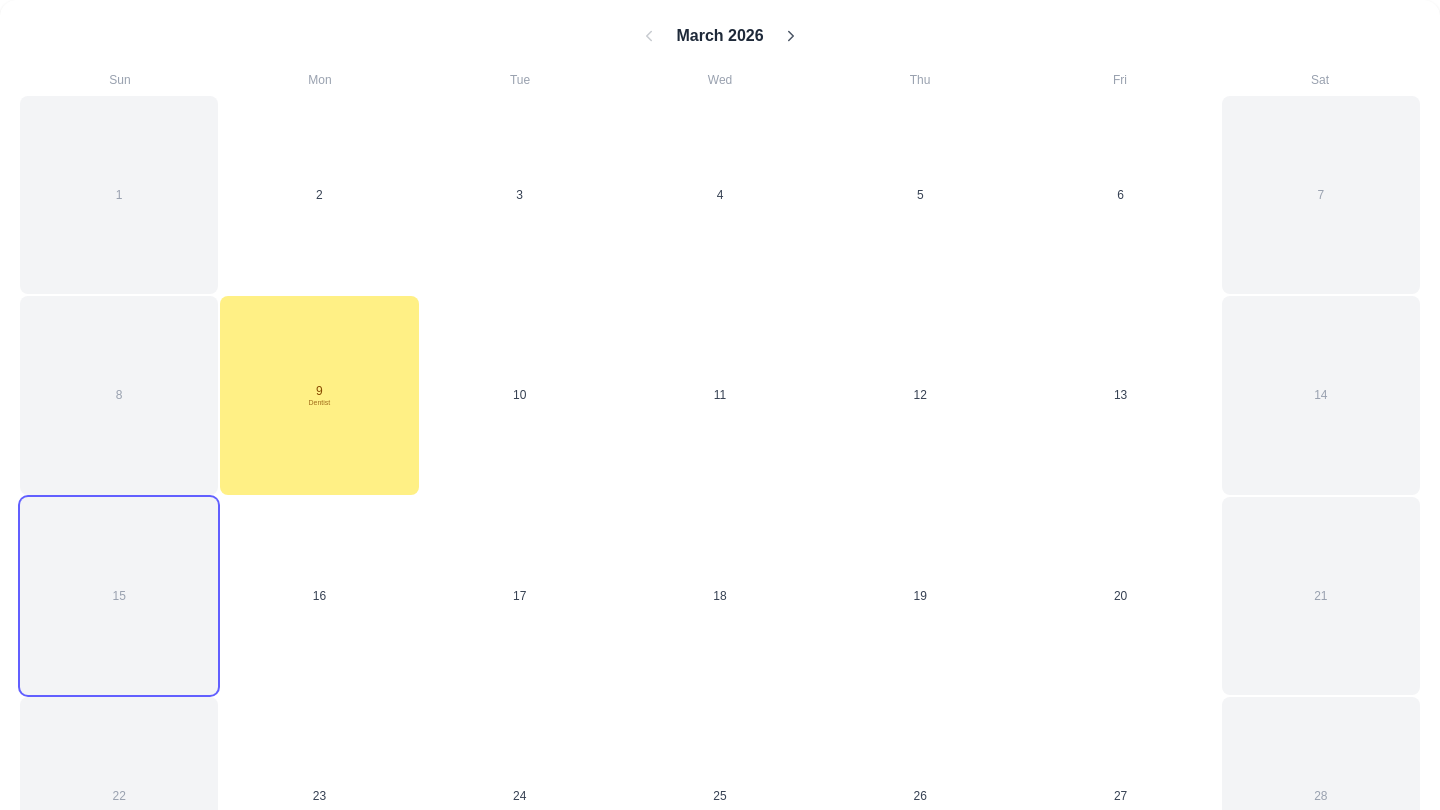
Scenario: CalendarView — leave popover on click › shows a popover with date range and working days
Click the text "9" at (319, 391), box [316,383,323,399]
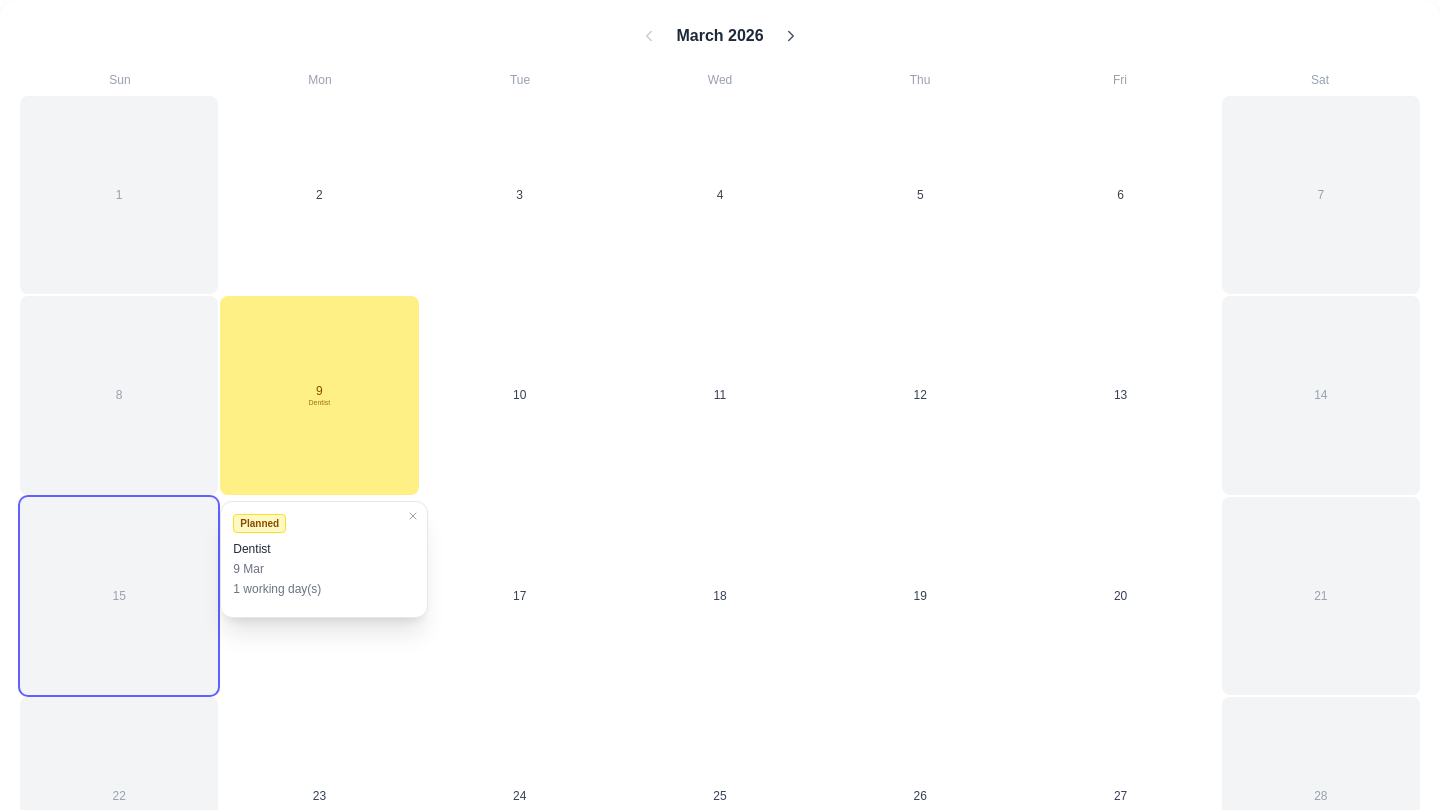
Expected: the tooltip "Planned Dentist 9 Mar 1 working day(s)" is shown, [220,501,428,618]
Expected: the text "1 working day(s)" is shown, [233,582,321,596]
